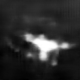plane: (22, 30, 74, 67)
